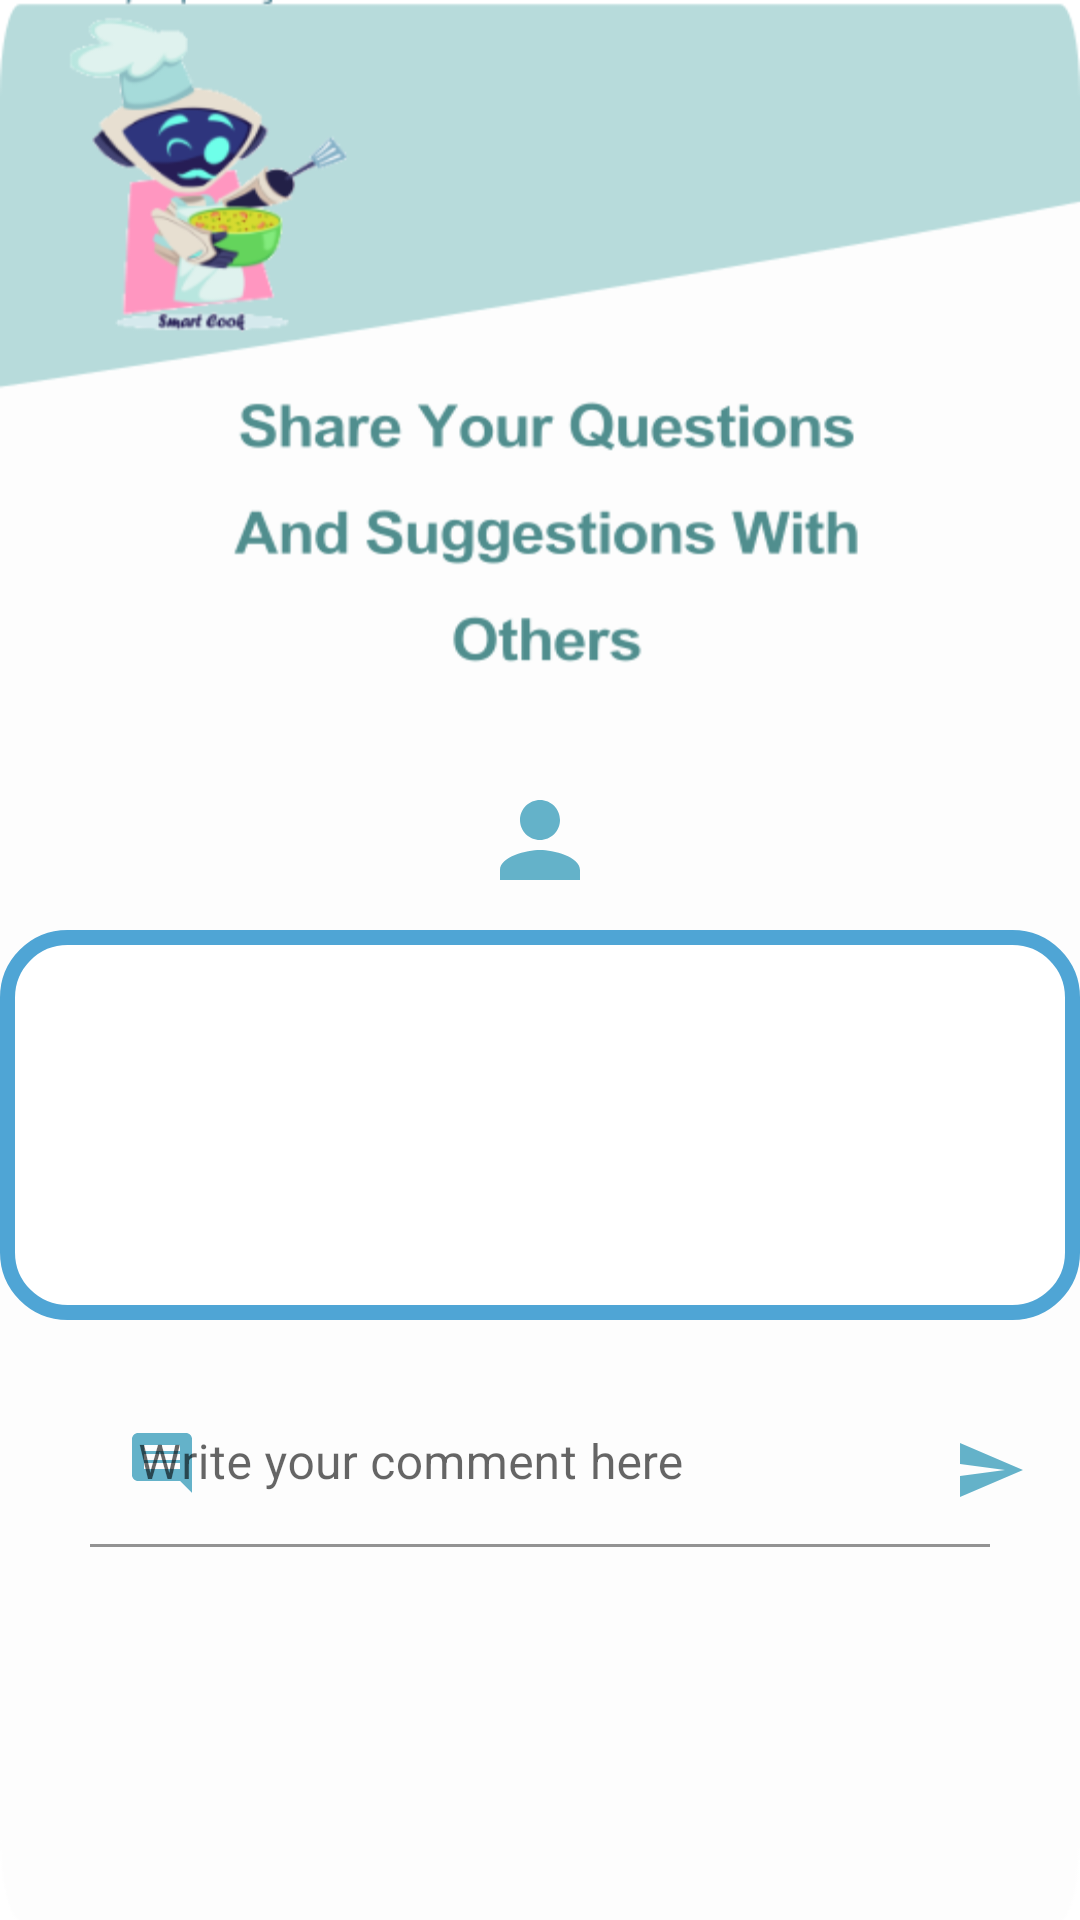

Named icons in this screenshot (1080px x 1920px) and their bounding boxes, (x1, y1, x2, y2):
person: (500, 800, 580, 880)
send: (960, 1443, 1023, 1497)
